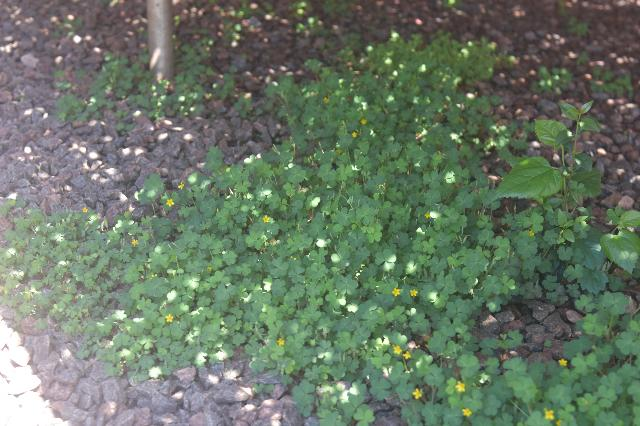MalezaMontesDelPlata: (165, 141, 314, 370), (3, 190, 159, 367), (261, 37, 494, 154), (314, 280, 478, 426), (314, 156, 494, 272), (478, 332, 640, 426), (500, 95, 613, 229), (493, 230, 640, 318)
